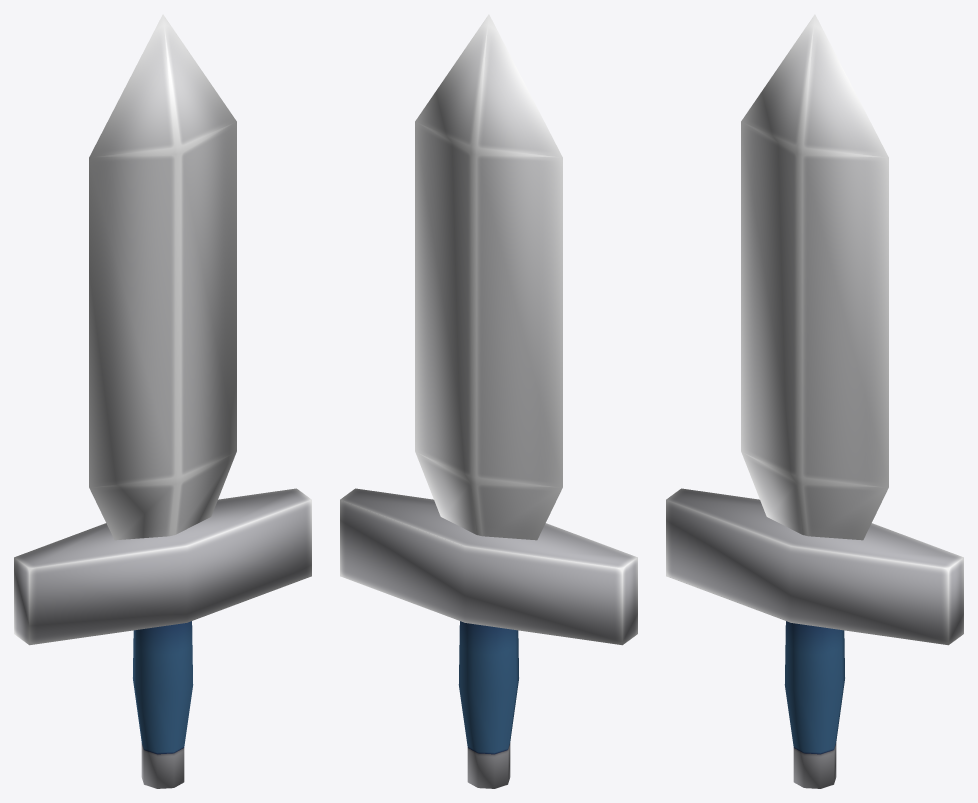
File: Sword.fbx
3 renders of one model, left to right at view 1: azimuth 30°, elevation 25°; view 2: azimuth 150°, elevation 25°; view 3: azimuth 330°, elevation 25°, orthographic.
Parts seen in each view (by area): view 1: Sword; view 2: Sword; view 3: Sword.
Boxes of the visible parts, left/top/right/bottom form: Sword: left=14, top=14, right=311, bottom=788; Sword: left=340, top=14, right=637, bottom=788; Sword: left=666, top=14, right=963, bottom=788.
Size of the model in its own units: 35.61 by 92.9 by 10.53.
